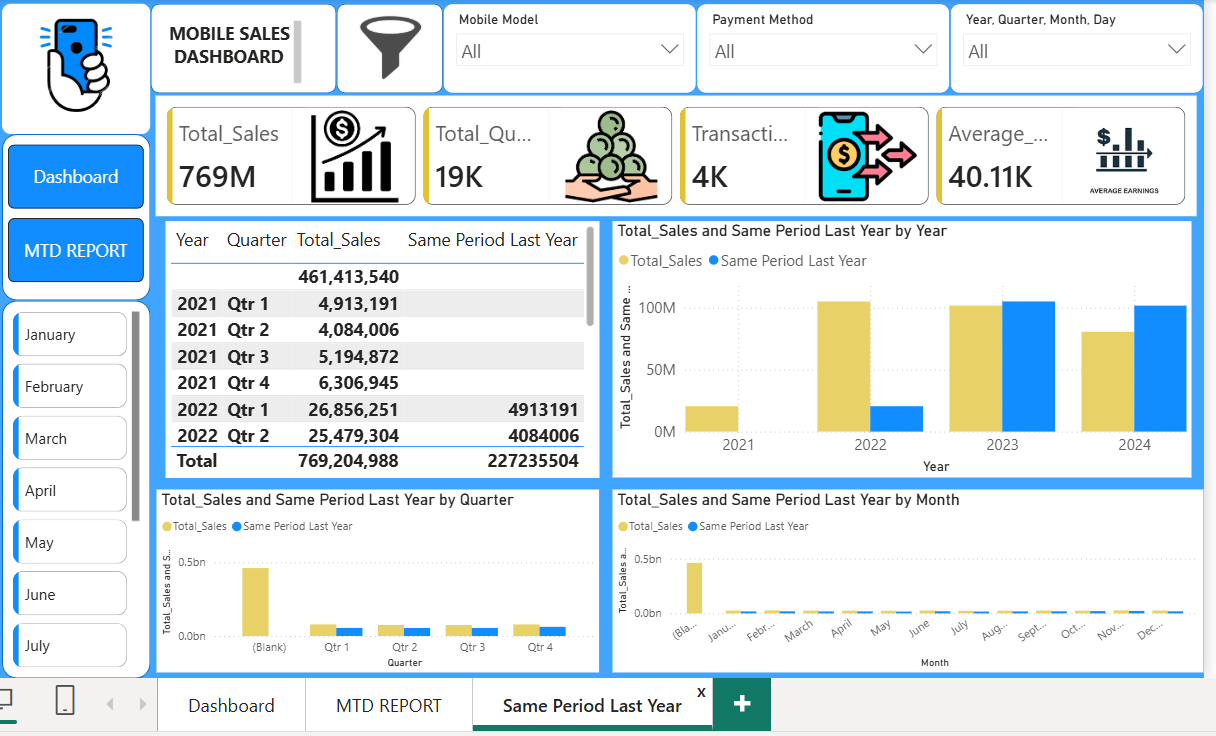

This screenshot's page, from the dashboard's own definition file:
{"tool":"powerbi","page":{"name":"Same Period Last Year","canvas":[1280,720],"ordinal":2},"visuals":[{"type":"image","box":[6.4,4.8,157.5,138.4],"z":0},{"type":"shape","box":[6.4,143.2,157.5,176.6],"z":1000},{"type":"shape","box":[6.4,319.7,157.5,400.8],"z":2000},{"type":"advancedSlicerVisual","fields":{"Values":["Custom_Calendar.Date.Variation.Date Hierarchy.Month"]},"box":[12.7,326.1,144.7,388.1],"z":3000},{"type":"cardVisual","fields":{"Data":["Mobile_Sales_Data.Total_Sales","Mobile_Sales_Data.Total_Quantity","Mobile_Sales_Data.Transaction","Mobile_Sales_Data.Average_Price"]},"box":[163.8,97,1116.6,138.4],"z":4000},{"type":"slicer","fields":{"Values":["Mobile_Sales_Data.Mobile Model"]},"box":[474,4.8,268.8,95.4],"z":5000},{"type":"slicer","fields":{"Values":["Mobile_Sales_Data.Payment Method"]},"box":[742.8,4.8,268.8,95.4],"z":6000},{"type":"slicer","fields":{"Values":["Custom_Calendar.Date.Variation.Date Hierarchy.Year","Custom_Calendar.Date.Variation.Date Hierarchy.Quarter","Custom_Calendar.Date.Variation.Date Hierarchy.Month","Custom_Calendar.Date.Variation.Date Hierarchy.Day"]},"box":[1011.6,4.8,268.8,95.4],"z":7000},{"type":"shape","box":[361.1,4.8,112.9,95.4],"z":8000},{"type":"shape","box":[163.8,4.8,197.2,95.4],"z":9000},{"type":"textbox","box":[179.7,19.1,147.9,77.9],"z":10000},{"type":"image","box":[372.2,15.9,92.3,71.6],"z":11000},{"type":"tableEx","fields":{"Values":["Custom_Calendar.Date.Variation.Date Hierarchy.Year","Custom_Calendar.Date.Variation.Date Hierarchy.Quarter","Mobile_Sales_Data.Total_Sales","Mobile_Sales_Data.Same Period Last Year"]},"box":[179.7,235.4,459.7,272],"z":12000},{"type":"clusteredColumnChart","fields":{"Category":["Custom_Calendar.Date.Variation.Date Hierarchy.Year","Custom_Calendar.Date.Variation.Date Hierarchy.Quarter"],"Y":["Mobile_Sales_Data.Total_Sales","Mobile_Sales_Data.Same Period Last Year"]},"box":[653.7,235.4,614,272],"z":13000},{"type":"clusteredColumnChart","fields":{"Y":["Mobile_Sales_Data.Total_Sales","Mobile_Sales_Data.Same Period Last Year"],"Category":["Custom_Calendar.Date.Variation.Date Hierarchy.Month"]},"box":[653.7,520.1,626.7,194.1],"z":14000},{"type":"clusteredColumnChart","fields":{"Category":["Custom_Calendar.Date.Variation.Date Hierarchy.Year","Custom_Calendar.Date.Variation.Date Hierarchy.Quarter"],"Y":["Mobile_Sales_Data.Total_Sales","Mobile_Sales_Data.Same Period Last Year"]},"box":[170.2,520.1,469.2,194.1],"z":15000},{"type":"pageNavigator","box":[12.7,154.3,144.7,147.9],"z":16000}]}

Visuals, with their boxes on the page's 1280x720 design canvas (x1, y1, x2, y2). These are canvas units, not pixel positions in the 1216x736 screenshot, which may show the page scaled, cropped or inside an application window:
image: [6, 5, 164, 143]
shape: [6, 143, 164, 320]
shape: [6, 320, 164, 720]
advancedSlicerVisual - Custom_Calendar.Date.Variation.Date Hierarchy.Month: [13, 326, 157, 714]
cardVisual - Mobile_Sales_Data.Total_Sales x Mobile_Sales_Data.Total_Quantity: [164, 97, 1280, 235]
slicer - Mobile_Sales_Data.Mobile Model: [474, 5, 743, 100]
slicer - Mobile_Sales_Data.Payment Method: [743, 5, 1012, 100]
slicer - Custom_Calendar.Date.Variation.Date Hierarchy.Year x Custom_Calendar.Date.Variation.Date Hierarchy.Quarter: [1012, 5, 1280, 100]
shape: [361, 5, 474, 100]
shape: [164, 5, 361, 100]
textbox: [180, 19, 328, 97]
image: [372, 16, 464, 88]
tableEx - Custom_Calendar.Date.Variation.Date Hierarchy.Year x Custom_Calendar.Date.Variation.Date Hierarchy.Quarter: [180, 235, 639, 507]
clusteredColumnChart - Custom_Calendar.Date.Variation.Date Hierarchy.Year x Custom_Calendar.Date.Variation.Date Hierarchy.Quarter: [654, 235, 1268, 507]
clusteredColumnChart - Mobile_Sales_Data.Total_Sales x Mobile_Sales_Data.Same Period Last Year: [654, 520, 1280, 714]
clusteredColumnChart - Custom_Calendar.Date.Variation.Date Hierarchy.Year x Custom_Calendar.Date.Variation.Date Hierarchy.Quarter: [170, 520, 639, 714]
pageNavigator: [13, 154, 157, 302]
